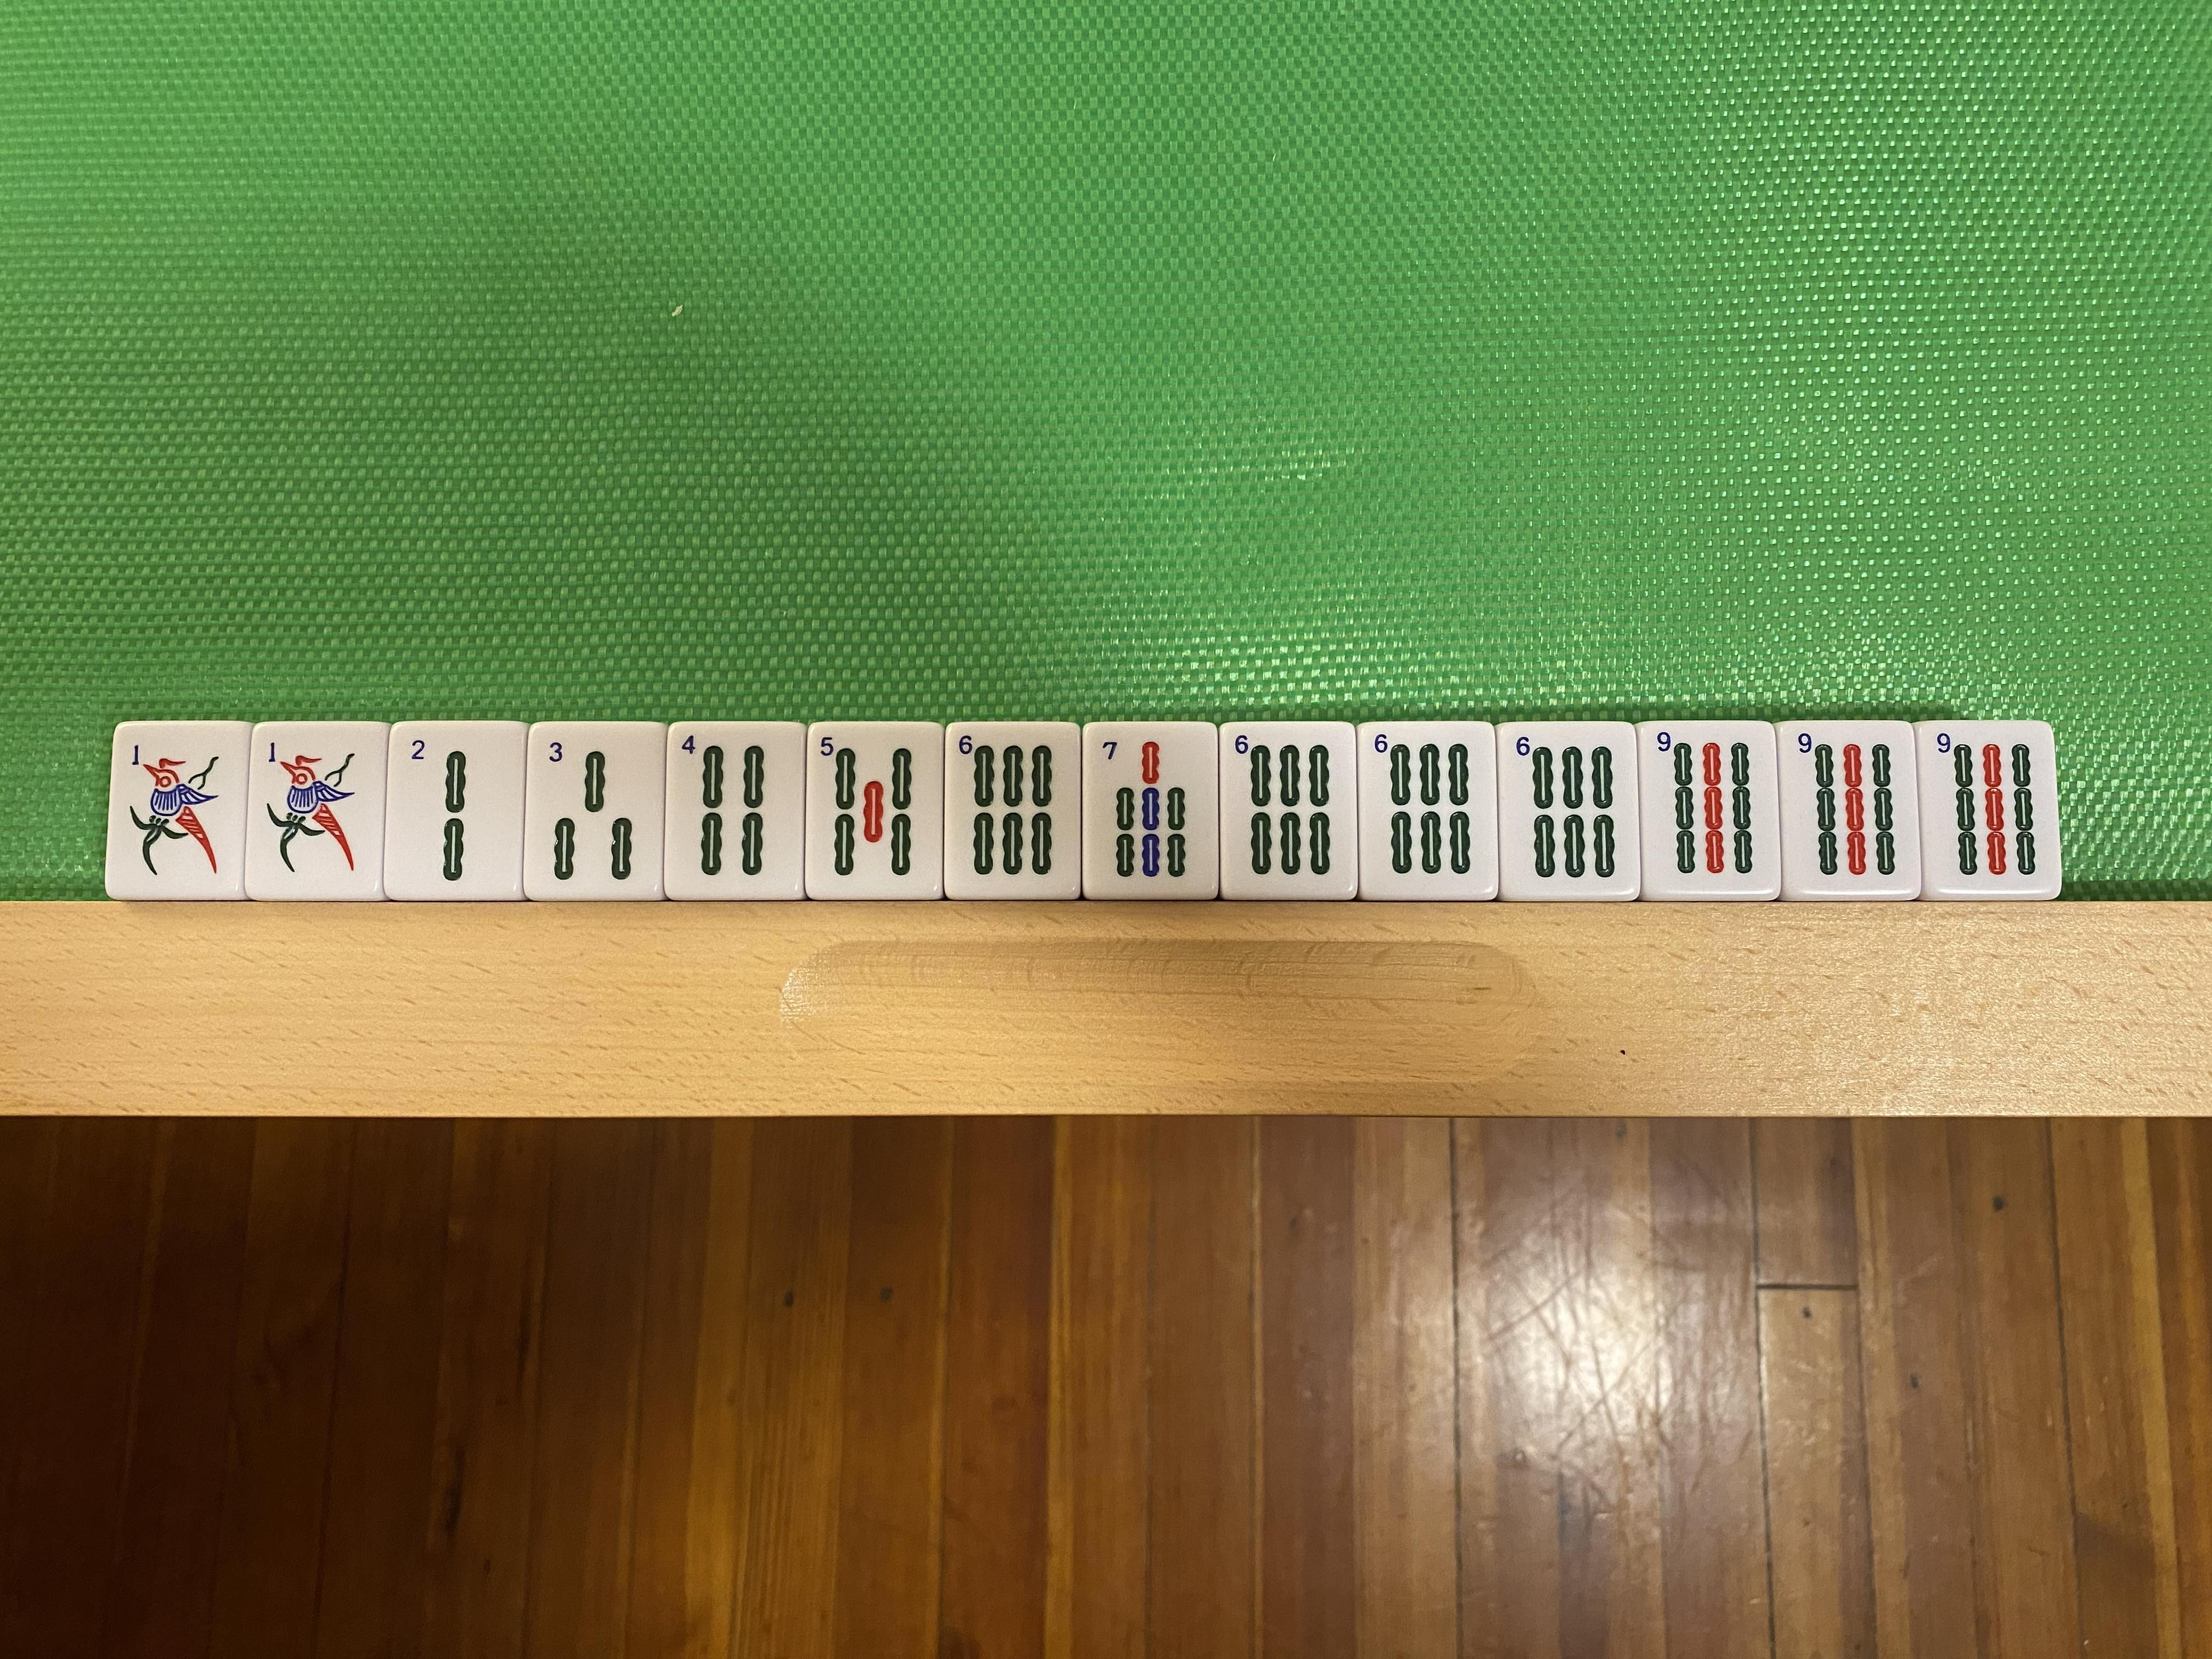bamboo-five: (810, 723, 944, 896)
bamboo-four: (671, 723, 806, 897)
bamboo-nine: (1642, 725, 1773, 899), (1787, 723, 1911, 896), (1926, 727, 2050, 896)
bamboo-one: (258, 727, 380, 897), (117, 723, 235, 894)
bamboo-seven: (1083, 723, 1214, 894)
bamboo-six: (1364, 725, 1494, 901), (1503, 725, 1634, 899), (1226, 725, 1357, 899), (948, 727, 1078, 901)
bamboo-three: (528, 725, 665, 892)
bamboo-two: (387, 728, 523, 897)
